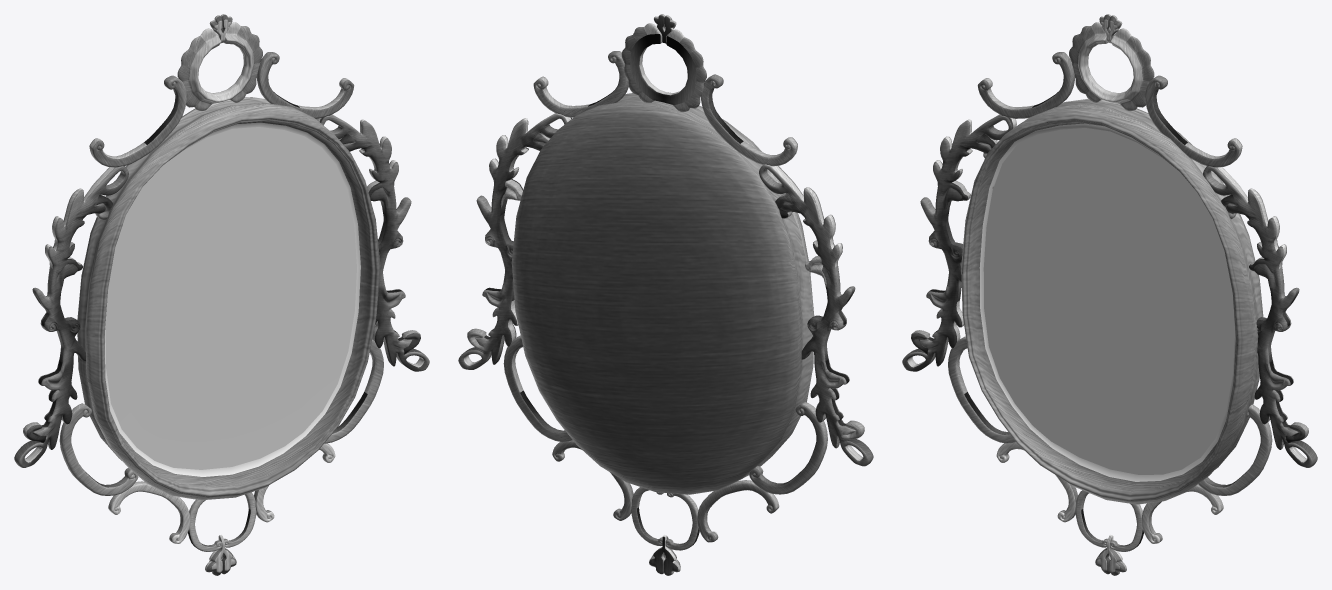
Rendered from mirror-final3.glb.
3 views of the same model, side by side, from view 1: azimuth 30°, elevation 25°; view 2: azimuth 150°, elevation 25°; view 3: azimuth 330°, elevation 25° (orthographic).
Parts seen in each view (by area): view 1: Line001_Material #48_0.001, Line001; view 2: Line001; view 3: Line001_Material #48_0.001, Line001.
Boxes of the visible parts, box(x1,y1,x2,y2) form: Line001_Material #48_0.001: box(105, 127, 356, 469); Line001: box(14, 14, 429, 575); Line001: box(458, 14, 873, 575); Line001_Material #48_0.001: box(983, 128, 1235, 474); Line001: box(902, 14, 1317, 575).
Bounding box in the file's own units: 34.13 × 44.38 × 5.09.
Materials: 2 (1 with a texture image).
